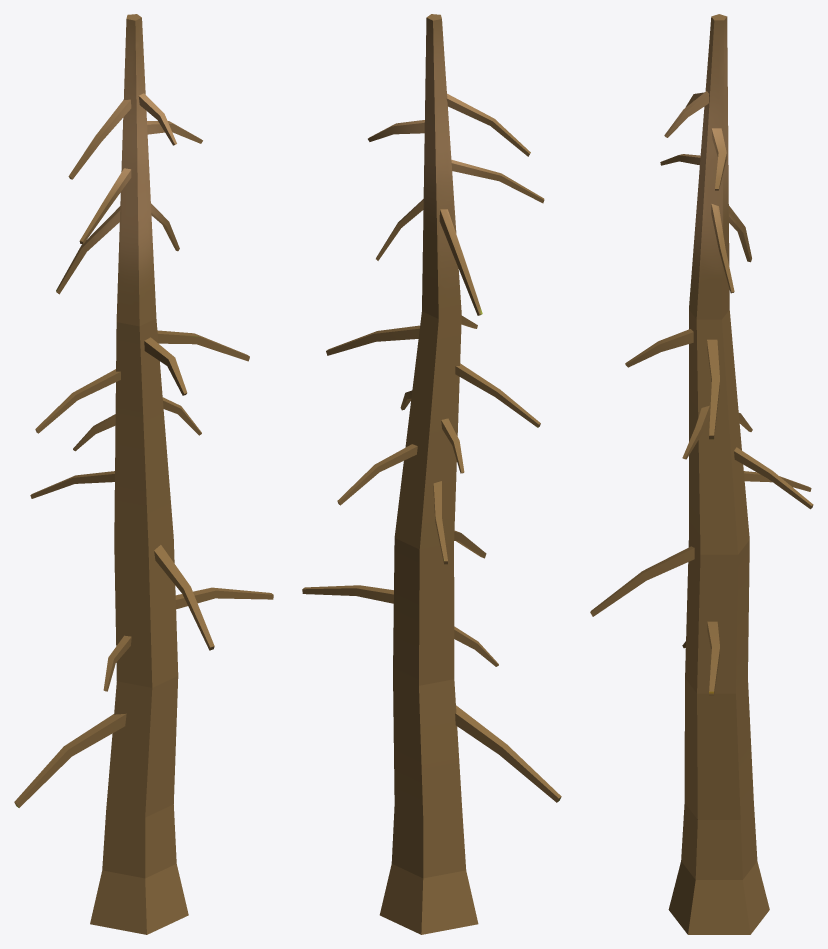
The model's file is SM_Tree_07.fbx.
3 renders of one model, left to right at view 1: azimuth 30°, elevation 25°; view 2: azimuth 150°, elevation 25°; view 3: azimuth 270°, elevation 25°, orthographic.
Parts seen in each view (by area): view 1: tree07_LOD0; view 2: tree07_LOD0; view 3: tree07_LOD0.
Part boxes in pixels (x1,y1,x2,y2): tree07_LOD0: [14, 14, 273, 934]; tree07_LOD0: [302, 14, 561, 934]; tree07_LOD0: [590, 14, 813, 934].
Size of what is drawn, in the model's own units: 621 by 2070 by 466.
1 material, 1 textured.
